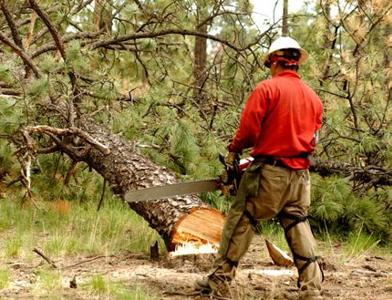person: (194, 37, 326, 300)
